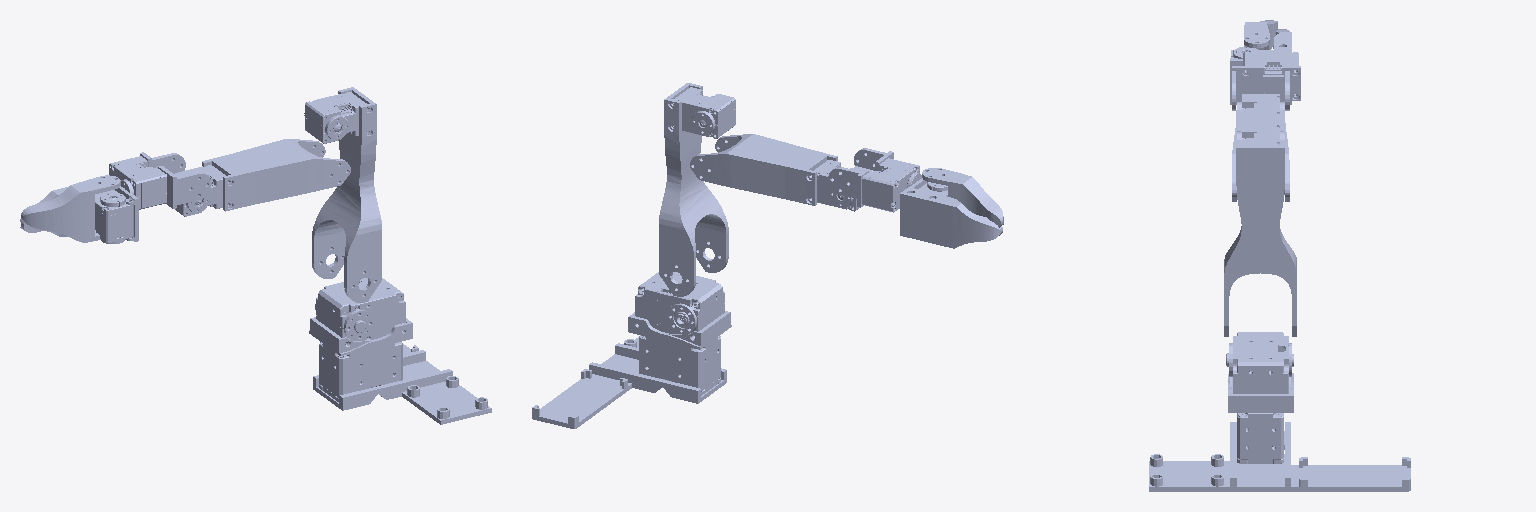
URDF robot description (follower):
<?xml version="1.0" encoding="utf-8"?>
<!-- Combined URDF file with motor links as children of original links -->
<robot
  name="follower">
    <mujoco>
    <compiler meshdir="./meshes"/>
  </mujoco>
  <!-- Original base_link -->
  <link name="base_link">
    <inertial>
      <origin
        xyz="0.034538 0.0021165 0.013963"
        rpy="0 0 0" />
      <mass
        value="0.067266" />
      <inertia
        ixx="4.4766E-05"
        ixy="-2.3205E-06"
        ixz="4.3559E-07"
        iyy="2.1965E-05"
        iyz="1.479E-07"
        izz="5.9106E-05" />
    </inertial>
    <visual>
      <origin xyz="0 0 0" rpy="0 0 0" />
      <geometry>
        <mesh filename="package://follower/meshes/base_link.STL" />
      </geometry>
      <material name="">
        <color rgba="0.79216 0.81961 0.93333 1" />
      </material>
    </visual>
    <visual>
      <origin xyz="0 0 0" rpy="0 0 0" />
      <geometry>
        <mesh filename="package://follower/meshes/base_link_motor.STL" />
      </geometry>
      <material name="">
        <color rgba="0.79216 0.81961 0.93333 1" />
      </material>
    </visual>
    <collision>
      <origin xyz="0 0 0" rpy="0 0 0" />
      <geometry>
        <mesh filename="package://follower/meshes/base_link.STL" />
      </geometry>
    </collision>
    <collision>
      <origin xyz="0 0 0" rpy="0 0 0" />
      <geometry>
        <mesh filename="package://follower/meshes/base_link_motor.STL" />
      </geometry>
    </collision>
  </link>

  <!-- Original link_1 -->
  <link name="link_1">
    <inertial>
      <origin
        xyz="0.011924 -0.00048792 0.013381"
        rpy="0 0 0" />
      <mass
        value="0.05014" />
      <inertia
        ixx="7.6045E-06"
        ixy="-2.4893E-07"
        ixz="-2.8338E-08"
        iyy="1.2358E-05"
        iyz="-5.112E-09"
        izz="1.4492E-05" />
    </inertial>
    <visual>
      <origin xyz="0 0 0" rpy="0 0 0" />
      <geometry>
        <mesh filename="package://follower/meshes/link_1.STL" />
      </geometry>
      <material name="">
        <color rgba="0.79216 0.81961 0.93333 1" />
      </material>
    </visual>
    <visual>
      <origin xyz="0 0 0" rpy="0 0 0" />
      <geometry>
        <mesh filename="package://follower/meshes/link_1_motor.STL" />
      </geometry>
      <material name="">
        <color rgba="0.79216 0.81961 0.93333 1" />
      </material>
    </visual>
    <collision>
      <origin xyz="0 0 0" rpy="0 0 0" />
      <geometry>
        <mesh filename="package://follower/meshes/link_1.STL" />
      </geometry>
    </collision>
    <collision>
      <origin xyz="0 0 0" rpy="0 0 0" />
      <geometry>
        <mesh filename="package://follower/meshes/link_1_motor.STL" />
      </geometry>
    </collision>
  </link>

  <joint name="joint_1" type="revolute">
    <origin xyz="0.012 0 0.0409" rpy="0 0 0" />
    <parent link="base_link" />
    <child link="link_1" />
    <axis xyz="0 0 -1" />
    <limit lower="-3.14" upper="3.14" effort="0.5" velocity="100" />
  </joint>

  <!-- Original link_2 -->
  <link name="link_2">
    <inertial>
      <origin
        xyz="0.0011747 0.02097 0.071547"
        rpy="0 0 0" />
      <mass
        value="0.050177" />
      <inertia
        ixx="3.7018E-05"
        ixy="2.5963E-09"
        ixz="-2.8959E-06"
        iyy="3.3772E-05"
        iyz="-1.6011E-10"
        izz="8.2375E-06" />
    </inertial>
    <visual>
      <origin xyz="0 0 0" rpy="0 0 0" />
      <geometry>
        <mesh filename="package://follower/meshes/link_2.STL" />
      </geometry>
      <material name="">
        <color rgba="0.79216 0.81961 0.93333 1" />
      </material>
    </visual>
    <visual>
      <origin xyz="0 0 0" rpy="0 0 0" />
      <geometry>
        <mesh filename="package://follower/meshes/link_2_motor.STL" />
      </geometry>
      <material name="">
        <color rgba="0.79216 0.81961 0.93333 1" />
      </material>
    </visual>
    <collision>
      <origin xyz="0 0 0" rpy="0 0 0" />
      <geometry>
        <mesh filename="package://follower/meshes/link_2.STL" />
      </geometry>
    </collision>
    <collision>
      <origin xyz="0 0 0" rpy="0 0 0" />
      <geometry>
        <mesh filename="package://follower/meshes/link_2_motor.STL" />
      </geometry>
    </collision>
  </link>

  <joint name="joint_2" type="revolute">
    <origin xyz="0 -0.0209 0.0154" rpy="0 0 0" />
    <parent link="link_1" />
    <child link="link_2" />
    <axis xyz="0 1 0" />
    <limit lower="-3.14" upper="3.14" effort="0.5" velocity="100" />
  </joint>

  <!-- Original link_3 -->
  <link name="link_3">
    <inertial>
      <origin
        xyz="-0.05537 0.014505 0.0028659"
        rpy="0 0 0" />
      <mass
        value="0.06379" />
      <inertia
        ixx="7.3427E-06"
        ixy="2.6058E-09"
        ixz="1.895E-07"
        iyy="2.2231E-05"
        iyz="9.8075E-11"
        izz="2.4506E-05" />
    </inertial>
    <visual>
      <origin xyz="0 0 0" rpy="0 0 0" />
      <geometry>
        <mesh filename="package://follower/meshes/link_3.STL" />
      </geometry>
      <material name="">
        <color rgba="0.79216 0.81961 0.93333 1" />
      </material>
    </visual>
    <visual>
      <origin xyz="0 0 0" rpy="0 0 0" />
      <geometry>
        <mesh filename="package://follower/meshes/link_3_motor.STL" />
      </geometry>
      <material name="">
        <color rgba="0.79216 0.81961 0.93333 1" />
      </material>
    </visual>
    <collision>
      <origin xyz="0 0 0" rpy="0 0 0" />
      <geometry>
        <mesh filename="package://follower/meshes/link_3.STL" />
      </geometry>
    </collision>
    <collision>
      <origin xyz="0 0 0" rpy="0 0 0" />
      <geometry>
        <mesh filename="package://follower/meshes/link_3_motor.STL" />
      </geometry>
    </collision>
  </link>

  <joint name="joint_3" type="revolute">
    <origin xyz="-0.0148 0.0065 0.1083" rpy="0 0 0" />
    <parent link="link_2" />
    <child link="link_3" />
    <axis xyz="0 1 0" />
    <limit lower="-3.14" upper="3.14" effort="0.5" velocity="100" />
  </joint>

  <!-- Original link_4 -->
  <link name="link_4">
    <inertial>
      <origin
        xyz="-0.02652 0.019195 -9.0614E-06"
        rpy="0 0 0" />
      <mass
        value="0.019805" />
      <inertia
        ixx="2.9577E-06"
        ixy="2.8302E-08"
        ixz="-1.331E-10"
        iyy="1.0783E-06"
        iyz="1.3763E-09"
        izz="2.8759E-06" />
    </inertial>
    <visual>
      <origin xyz="0 0 0" rpy="0 0 0" />
      <geometry>
        <mesh filename="package://follower/meshes/link_4.STL" />
      </geometry>
      <material name="">
        <color rgba="0.79216 0.81961 0.93333 1" />
      </material>
    </visual>
    <visual>
      <origin xyz="0 0 0" rpy="0 0 0" />
      <geometry>
        <mesh filename="package://follower/meshes/link_4_motor.STL" />
      </geometry>
      <material name="">
        <color rgba="0.79216 0.81961 0.93333 1" />
      </material>
    </visual>
    <collision>
      <origin xyz="0 0 0" rpy="0 0 0" />
      <geometry>
        <mesh filename="package://follower/meshes/link_4.STL" />
      </geometry>
    </collision>
    <collision>
      <origin xyz="0 0 0" rpy="0 0 0" />
      <geometry>
        <mesh filename="package://follower/meshes/link_4_motor.STL" />
      </geometry>
    </collision>
  </link>

  <joint name="joint_4" type="revolute">
    <origin xyz="-0.10048 5E-05 0.0026999" rpy="0 0 0" />
    <parent link="link_3" />
    <child link="link_4" />
    <axis xyz="0 1 0" />
    <limit lower="-3.14" upper="3.14" effort="0.5" velocity="100" />
  </joint>

  <!-- Original link_5 -->
  <link name="link_5">
    <inertial>
      <origin
        xyz="-0.019091 0.0053379 0.00018011"
        rpy="0 0 0" />
      <mass
        value="0.029277" />
      <inertia
        ixx="3.5905E-06"
        ixy="1.0601E-06"
        ixz="4.6179E-08"
        iyy="6.8334E-06"
        iyz="-2.8448E-09"
        izz="8.1125E-06" />
    </inertial>
    <visual>
      <origin xyz="0 0 0" rpy="0 0 0" />
      <geometry>
        <mesh filename="package://follower/meshes/link_5.STL" />
      </geometry>
      <material name="">
        <color rgba="0.79216 0.81961 0.93333 1" />
      </material>
    </visual>
    <visual>
      <origin xyz="0 0 0" rpy="0 0 0" />
      <geometry>
        <mesh filename="package://follower/meshes/link_5_motor.STL" />
      </geometry>
      <material name="">
        <color rgba="0.79216 0.81961 0.93333 1" />
      </material>
    </visual>
    <collision>
      <origin xyz="0 0 0" rpy="0 0 0" />
      <geometry>
        <mesh filename="package://follower/meshes/link_5.STL" />
      </geometry>
    </collision>
    <collision>
      <origin xyz="0 0 0" rpy="0 0 0" />
      <geometry>
        <mesh filename="package://follower/meshes/link_5_motor.STL" />
      </geometry>
    </collision>
  </link>

  <joint name="joint_5" type="revolute">
    <origin xyz="-0.045 0.013097 0" rpy="0 0 0" />
    <parent link="link_4" />
    <child link="link_5" />
    <axis xyz="1 0 0" />
    <limit lower="-3.14" upper="3.14" effort="0.5" velocity="100" />
  </joint>

  <!-- Original link_6 -->
  <link name="link_6">
    <inertial>
      <origin
        xyz="-0.02507 0.0010817 -0.01414"
        rpy="0 0 0" />
      <mass
        value="0.012831" />
      <inertia
        ixx="1.5159E-06"
        ixy="3.156E-07"
        ixz="3.409E-08"
        iyy="3.449E-06"
        iyz="-3.8705E-09"
        izz="2.4565E-06" />
    </inertial>
    <visual>
      <origin xyz="0 0 0" rpy="0 0 0" />
      <geometry>
        <mesh filename="package://follower/meshes/link_6.STL" />
      </geometry>
      <material name="">
        <color rgba="0.79216 0.81961 0.93333 1" />
      </material>
    </visual>
    <collision>
      <origin xyz="0 0 0" rpy="0 0 0" />
      <geometry>
        <mesh filename="package://follower/meshes/link_6.STL" />
      </geometry>
    </collision>
  </link>

  <joint name="joint_6" type="revolute">
    <origin xyz="-0.01315 -0.0075 0.0145" rpy="0 0 0" />
    <parent link="link_5" />
    <child link="link_6" />
    <axis xyz="0 0 -1" />
    <limit lower="-2.45" upper="0.032" effort="0.5" velocity="100" />
  </joint>
</robot>

--- Render facts (derived) ---
The picture shows the robot from 3 angles, left to right: view 1: azimuth 30°, elevation 25°; view 2: azimuth 150°, elevation 25°; view 3: azimuth 270°, elevation 25°; orthographic projection.
Model follower with 7 links and 6 joints (6 revolute), rooted at base_link, posed every joint at zero.
Visible links, largest first — view 1: link_2, base_link, link_3, link_1, link_4, link_6, link_5; view 2: link_2, base_link, link_3, link_1, link_5, link_4, link_6; view 3: base_link, link_2, link_1, link_4, link_3, link_6, link_5.
Link boxes in pixels (box(x1,y1,x2,y2)): link_2: box(304, 87, 381, 302); base_link: box(313, 342, 491, 424); link_3: box(174, 139, 350, 216); link_1: box(309, 278, 412, 355); link_4: box(109, 152, 211, 209); link_6: box(21, 175, 120, 242); link_5: box(20, 186, 138, 243); link_2: box(659, 83, 735, 296); base_link: box(532, 335, 726, 428); link_3: box(690, 134, 873, 211); link_1: box(628, 272, 731, 349); link_5: box(900, 178, 1002, 248); link_4: box(828, 148, 921, 212); link_6: box(922, 168, 1003, 227); base_link: box(1149, 413, 1410, 491); link_2: box(1224, 124, 1296, 336); link_1: box(1226, 332, 1293, 412); link_4: box(1232, 52, 1300, 110); link_3: box(1232, 94, 1289, 201); link_6: box(1244, 20, 1277, 49); link_5: box(1230, 29, 1291, 104).
Bounding box of the posed robot: 0.2971 × 0.1585 × 0.2053 m (x, y, z).
Meshes: 13 distinct files referenced, 7 mesh visuals loaded (7 binary STL); not drawn: 6 (reference not matched to a file when rendering).